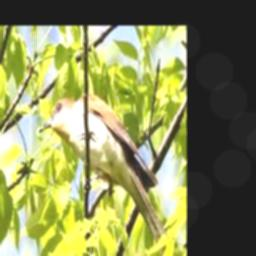Cuckoo: (39, 95, 170, 256)
